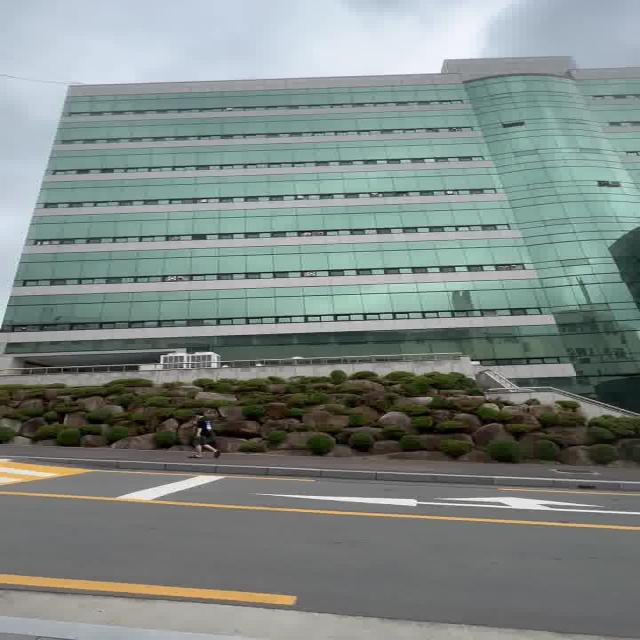building: (21, 64, 626, 364)
